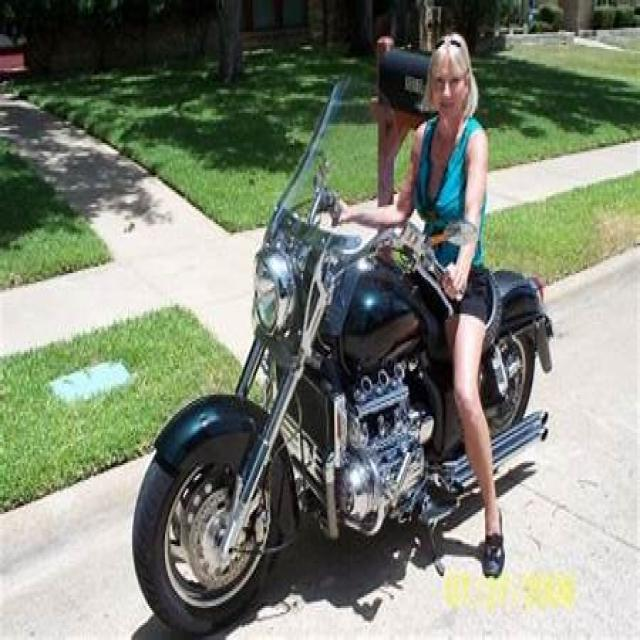Not Wearing Helmet: (414, 39, 496, 133)
